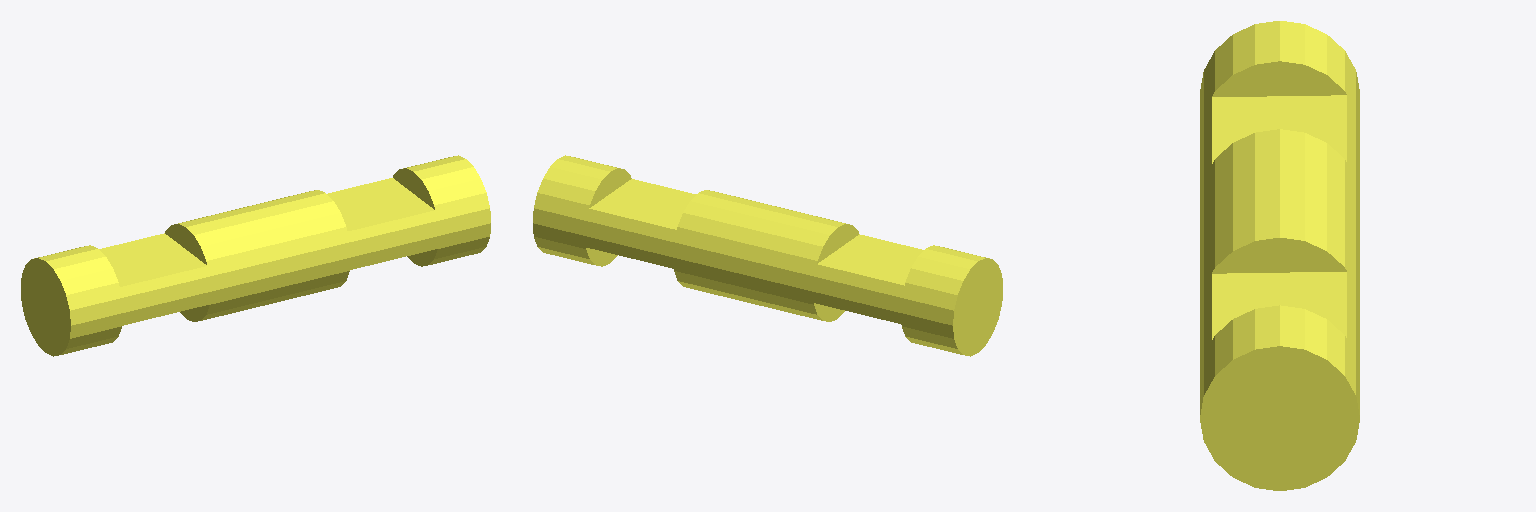
URDF robot description (log.urdf):
<?xml version="0.0" ?>
<robot name="log.urdf">
  <link name="log">
    <contact>
      <lateral_friction value="1.0"/>
      <rolling_friction value="0.0"/>
      <contact_cfm value="0.0"/>
      <contact_erp value="1.0"/>
    </contact>
    <inertial>
      <origin rpy="0 0 0" xyz="0.0 0 0"/>
       <mass value=".1"/>
       <inertia ixx="0" ixy="0" ixz="0" iyy="0" iyz="0" izz="0"/>
    </inertial>
    <visual>
      <!-- <origin rpy="1.570796 0 0" xyz="-0.016 -0.016 -0.0115"/> -->
      <origin rpy="0 0 0" xyz="0.0 0 0"/>
      <geometry>
        <mesh filename="tinker.obj" scale=".003 .003 .003"/>
      </geometry>
       <material name="yellow">
        <color rgba="1 1 0.4 1"/>
      </material>
    </visual>
    <collision>
      <!-- <origin rpy="1.570796 0 0" xyz="-0.016 -0.016 -0.0115"/> -->
      <origin rpy="0 0 0" xyz="0.0 0 0"/>
      <geometry>
	 			<!-- <box size="0.032 0.023 0.032"/> -->
        <!-- <box size="0.064 0.040 0.064"/> -->
        <mesh filename="tinker1.obj" scale=".003 .003 .003"/>
      </geometry>
    </collision>
    <collision>
      <!-- <origin rpy="1.570796 0 0" xyz="-0.016 -0.016 -0.0115"/> -->
      <origin rpy="0 0 0" xyz="0.0 0 0"/>
      <geometry>
        <!-- <box size="0.032 0.023 0.032"/> -->
        <!-- <box size="0.064 0.040 0.064"/> -->
        <mesh filename="tinker2.obj" scale=".003 .003 .003"/>
      </geometry>
    </collision>
    <collision>
      <!-- <origin rpy="1.570796 0 0" xyz="-0.016 -0.016 -0.0115"/> -->
      <origin rpy="0 0 0" xyz="0.0 0 0"/>
      <geometry>
        <!-- <box size="0.032 0.023 0.032"/> -->
        <!-- <box size="0.064 0.040 0.064"/> -->
        <mesh filename="tinker3.obj" scale=".003 .003 .003"/>
      </geometry>
    </collision>
    <collision>
      <!-- <origin rpy="1.570796 0 0" xyz="-0.016 -0.016 -0.0115"/> -->
      <origin rpy="0 0 0" xyz="0.0 0 0"/>
      <geometry>
        <!-- <box size="0.032 0.023 0.032"/> -->
        <!-- <box size="0.064 0.040 0.064"/> -->
        <mesh filename="tinker4.obj" scale=".003 .003 .003"/>
      </geometry>
    </collision>
    <collision>
      <!-- <origin rpy="1.570796 0 0" xyz="-0.016 -0.016 -0.0115"/> -->
      <origin rpy="0 0 0" xyz="0.0 0 0"/>
      <geometry>
        <!-- <box size="0.032 0.023 0.032"/> -->
        <!-- <box size="0.064 0.040 0.064"/> -->
        <mesh filename="tinker5.obj" scale=".003 .003 .003"/>
      </geometry>
    </collision>
    <collision>
      <!-- <origin rpy="1.570796 0 0" xyz="-0.016 -0.016 -0.0115"/> -->
      <origin rpy="0 0 0" xyz="0.0 0 0"/>
      <geometry>
        <!-- <box size="0.032 0.023 0.032"/> -->
        <!-- <box size="0.064 0.040 0.064"/> -->
        <mesh filename="tinker6.obj" scale=".003 .003 .003"/>
      </geometry>
    </collision>
    <collision>
      <!-- <origin rpy="1.570796 0 0" xyz="-0.016 -0.016 -0.0115"/> -->
      <origin rpy="0 0 0" xyz="0.0 0 0"/>
      <geometry>
        <!-- <box size="0.032 0.023 0.032"/> -->
        <!-- <box size="0.064 0.040 0.064"/> -->
        <mesh filename="tinker7.obj" scale=".003 .003 .003"/>
      </geometry>
    </collision>
  </link>
</robot>

--- What the picture shows (computed from the rendered views, not written in the file) ---
Views: 3 orthographic renders of the robot side by side, from view 1: azimuth 30°, elevation 25°; view 2: azimuth 150°, elevation 25°; view 3: azimuth 270°, elevation 25°.
Model log.urdf with 1 links and 0 joints (none), rooted at log, posed every joint at zero.
Links seen in each view (by area): view 1: log; view 2: log; view 3: log.
Link boxes in pixels (<box>): log: <box>21,155,490,356</box>; log: <box>533,155,1002,356</box>; log: <box>1200,21,1359,490</box>.
Size in the robot's own frame: 0.288 by 0.06 by 0.06 metres.
Meshes: 1 distinct files referenced, 1 mesh visuals loaded (1 OBJ).